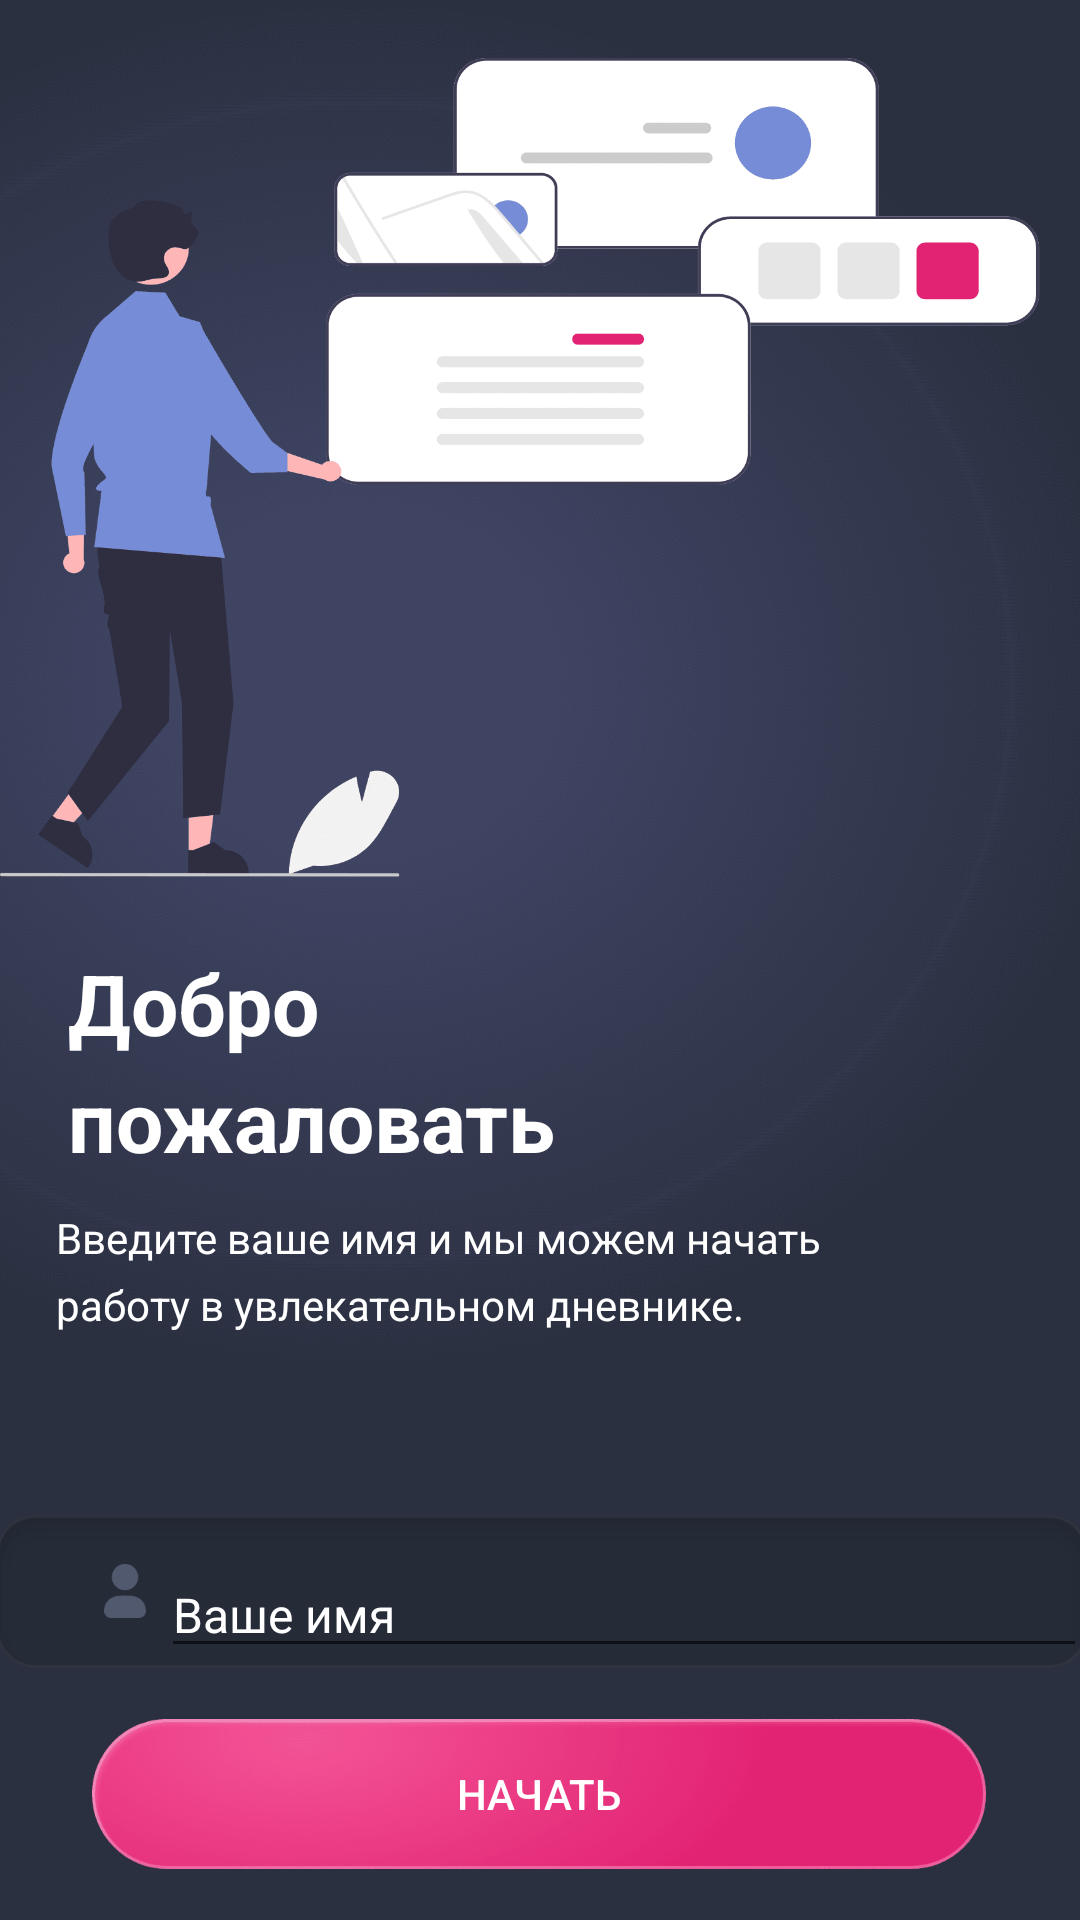

Icon click points for this 1080px×1920px phone screenshot, format (x,y):
user: (125,1591)
